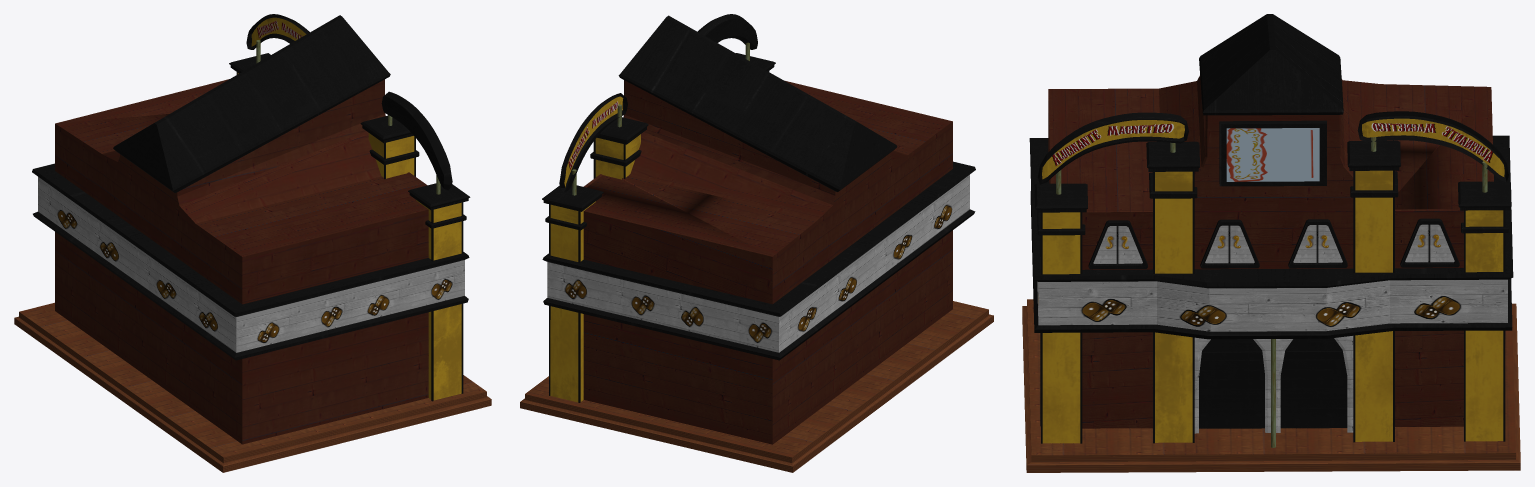
The model's file is casaDeLosEspejos.fbx.
3 views of the same model, side by side, from view 1: azimuth 30°, elevation 25°; view 2: azimuth 150°, elevation 25°; view 3: azimuth 270°, elevation 25° (orthographic). The views are drawn at different scales.
Visible parts, largest first — view 1: tejado.007, casa.001, medio.001, base.002, medio, torresInt.001, torresInt, catelI, Cube.005, catelD.001; view 2: tejado.007, casa.001, medio.001, base.002, medio, torresInt.001, torresInt, catelI, catelD.001, Cube.005; view 3: tejado.007, torresInt.001, base.002, medio.001, medio, casa.001, MirrorFondoPuerta.001, torresInt, cartel.002, catelI, Cube.005, ventana4 (+9 smaller).
Part boxes in pixels (x1=…): tejado.007: x1=55, y1=79, x2=428, y2=444; casa.001: x1=113, y1=15, x2=390, y2=192; medio.001: x1=38, y1=177, x2=464, y2=352; base.002: x1=14, y1=302, x2=491, y2=472; medio: x1=32, y1=163, x2=469, y2=360; torresInt.001: x1=237, y1=73, x2=461, y2=400; torresInt: x1=229, y1=53, x2=470, y2=228; catelI: x1=246, y1=14, x2=452, y2=190; Cube.005: x1=236, y1=72, x2=463, y2=401; catelD.001: x1=251, y1=17, x2=306, y2=46; tejado.007: x1=583, y1=80, x2=952, y2=444; casa.001: x1=618, y1=15, x2=897, y2=191; medio.001: x1=547, y1=174, x2=969, y2=352; base.002: x1=520, y1=301, x2=993, y2=472; medio: x1=542, y1=161, x2=975, y2=360; torresInt.001: x1=550, y1=134, x2=640, y2=402; torresInt: x1=542, y1=53, x2=775, y2=230; catelI: x1=559, y1=14, x2=757, y2=192; catelD.001: x1=564, y1=96, x2=623, y2=187; Cube.005: x1=549, y1=71, x2=769, y2=402; tejado.007: x1=1048, y1=75, x2=1493, y2=428; torresInt.001: x1=1042, y1=170, x2=1503, y2=443; base.002: x1=1022, y1=299, x2=1520, y2=472; medio.001: x1=1037, y1=279, x2=1507, y2=331; medio: x1=1029, y1=135, x2=1513, y2=339; casa.001: x1=1199, y1=14, x2=1343, y2=115; MirrorFondoPuerta.001: x1=1199, y1=338, x2=1347, y2=428; torresInt: x1=1034, y1=140, x2=1511, y2=235; cartel.002: x1=1226, y1=128, x2=1319, y2=181; catelI: x1=1037, y1=111, x2=1508, y2=184; Cube.005: x1=1040, y1=170, x2=1505, y2=443; ventana4: x1=1088, y1=218, x2=1459, y2=269.
Size of the model in its own units: 6452 by 7338 by 8407.
